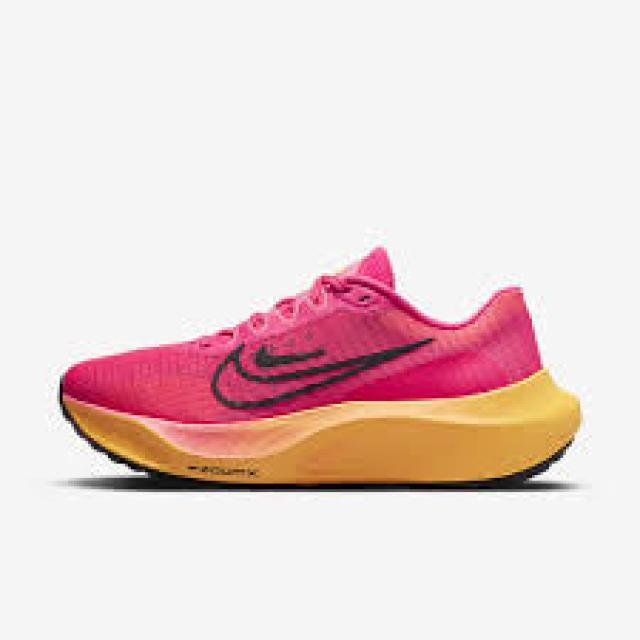shoes: (61, 247, 585, 491)
